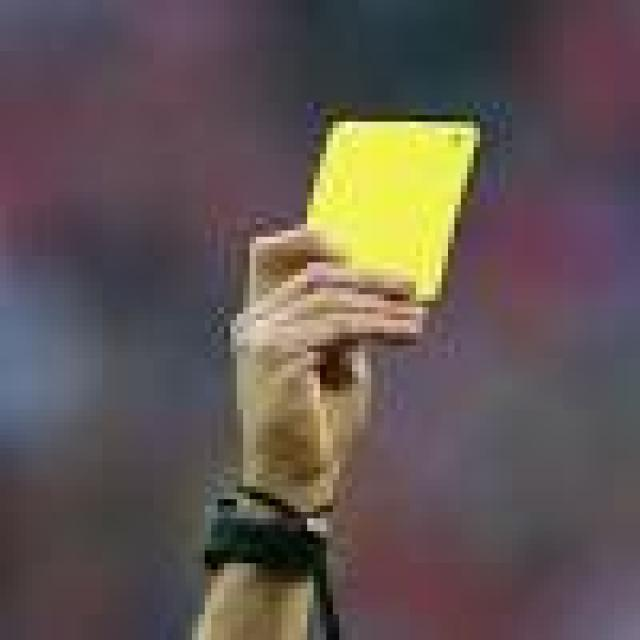yellow-card: (179, 96, 480, 640)
